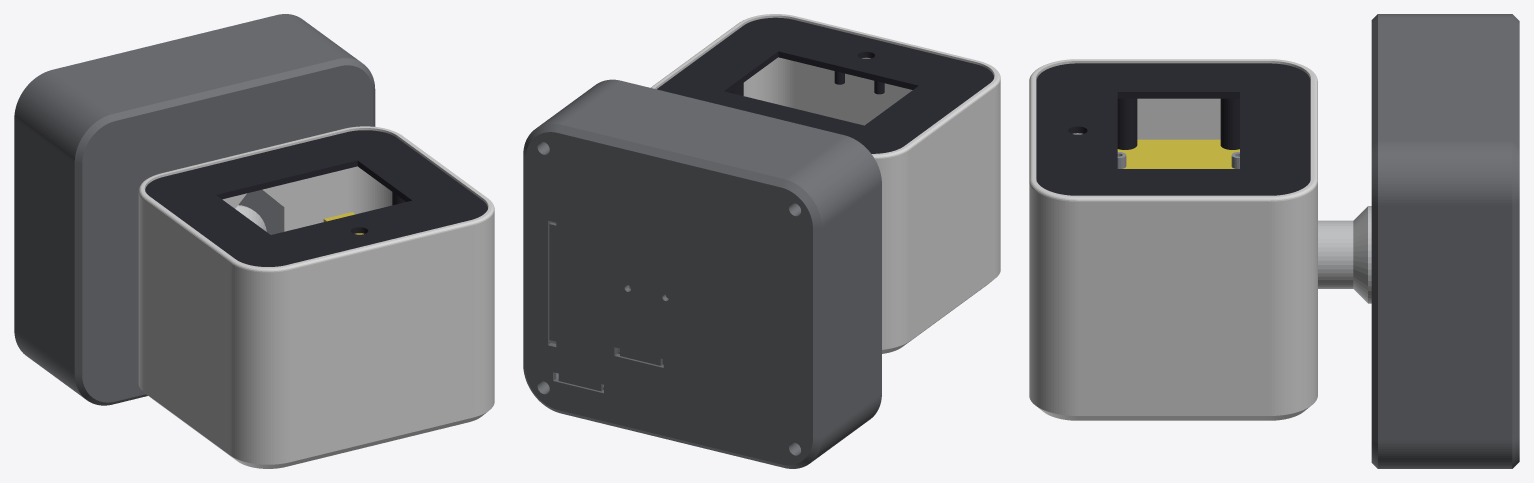
File: montagem.glb
The picture shows the model from 3 angles, left to right: view 1: azimuth 30°, elevation 25°; view 2: azimuth 150°, elevation 25°; view 3: azimuth 270°, elevation 25°; orthographic projection. The views are drawn at different scales.
Visible parts, largest first — view 1: cabeca-corpo-0, tampa-base-0, base-0, cabeca-face-0; view 2: base-0, cabeca-corpo-0, cabeca-face-0, tampa-base-0; view 3: cabeca-corpo-0, base-0, cabeca-face-0, tampa-base-0, tubo-pescoco-0, quadro-cabeca-0.
Part boxes in pixels (box(x1,y1,x2,y2)): cabeca-corpo-0: box(138, 126, 494, 468); tampa-base-0: box(73, 57, 375, 405); base-0: box(14, 14, 358, 396); cabeca-face-0: box(145, 130, 487, 266); base-0: box(523, 81, 880, 468); cabeca-corpo-0: box(651, 14, 1000, 353); cabeca-face-0: box(657, 17, 993, 153); tampa-base-0: box(596, 79, 881, 419); cabeca-corpo-0: box(1029, 59, 1317, 420); base-0: box(1381, 14, 1519, 468); cabeca-face-0: box(1036, 63, 1310, 195); tampa-base-0: box(1371, 14, 1381, 468); tubo-pescoco-0: box(1318, 206, 1371, 303); quadro-cabeca-0: box(1117, 139, 1239, 168).
Size of the model in its own units: 158 by 146 by 200.
